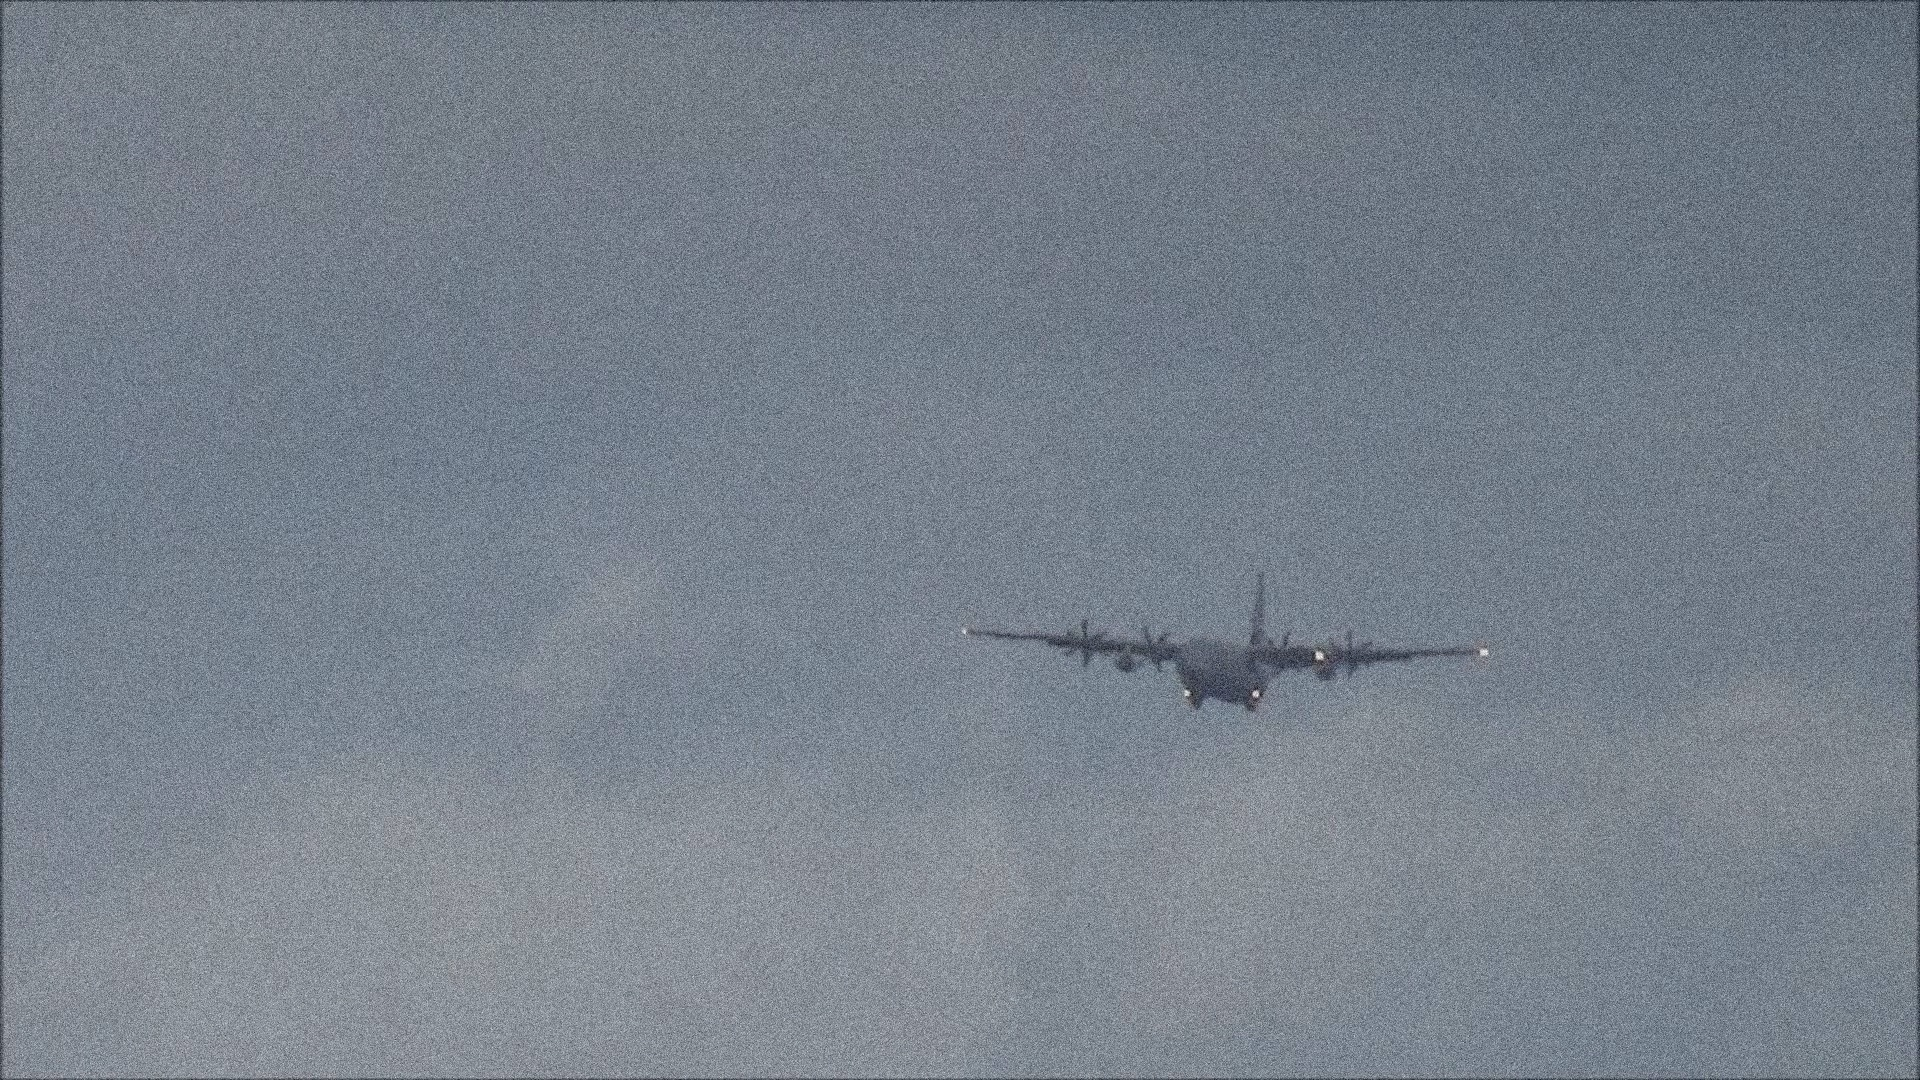Airplane: (953, 574, 1499, 723)
